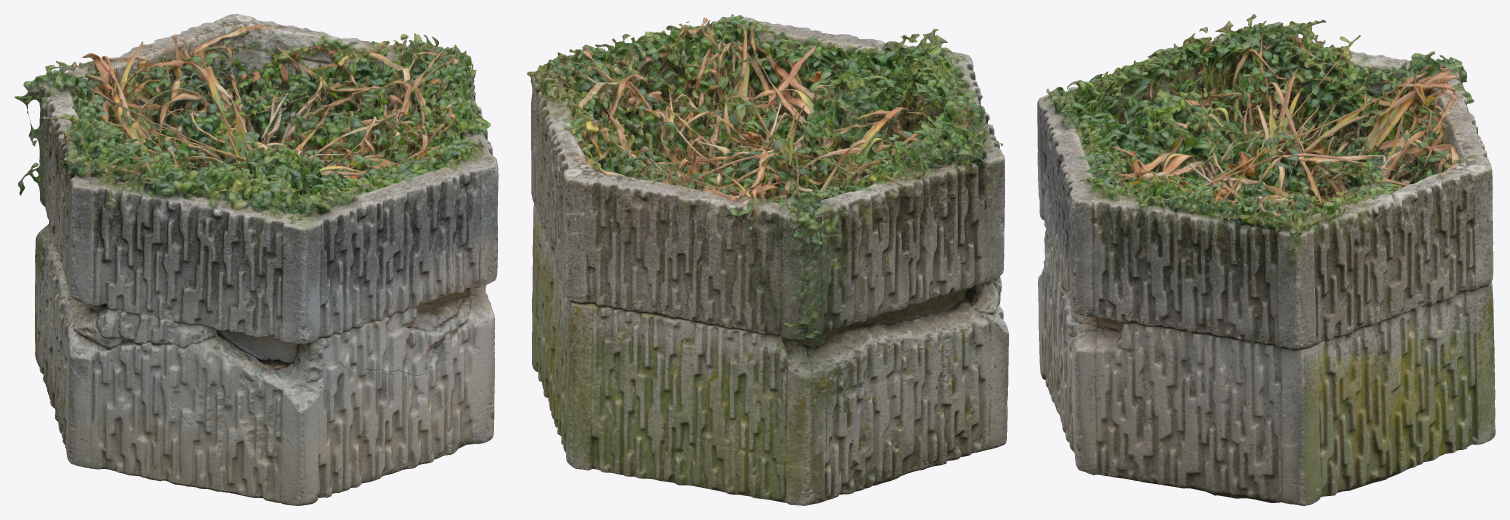
The model's file is sf-dual-brutal-outdoor-concrete-hexagon-flo-200bbe.glb.
The picture shows the model from 3 angles, left to right: view 1: azimuth 30°, elevation 25°; view 2: azimuth 150°, elevation 25°; view 3: azimuth 270°, elevation 25°; orthographic projection. The views are drawn at different scales.
Visible parts, largest first — view 1: double-hexa_double-hexa_u1_v1_0, double-hexa_double-hexa_u2_v1_0, double-hexa_double-hexa_u1_v2_0; view 2: double-hexa_double-hexa_u1_v1_0, double-hexa_double-hexa_u2_v1_0, double-hexa_double-hexa_u1_v2_0; view 3: double-hexa_double-hexa_u1_v1_0, double-hexa_double-hexa_u2_v1_0, double-hexa_double-hexa_u1_v2_0.
Boxes of the visible parts, x1=… form: double-hexa_double-hexa_u1_v1_0: x1=14, y1=22, x2=498, y2=505; double-hexa_double-hexa_u2_v1_0: x1=15, y1=14, x2=498, y2=505; double-hexa_double-hexa_u1_v2_0: x1=15, y1=24, x2=490, y2=496; double-hexa_double-hexa_u1_v1_0: x1=527, y1=15, x2=1008, y2=505; double-hexa_double-hexa_u2_v1_0: x1=527, y1=14, x2=1007, y2=494; double-hexa_double-hexa_u1_v2_0: x1=535, y1=18, x2=990, y2=496; double-hexa_double-hexa_u1_v1_0: x1=1037, y1=17, x2=1494, y2=505; double-hexa_double-hexa_u2_v1_0: x1=1041, y1=15, x2=1495, y2=504; double-hexa_double-hexa_u1_v2_0: x1=1039, y1=14, x2=1491, y2=491.
Size of the model in its own units: 1.22 by 0.8865 by 1.14.
3 materials, 3 textured.
